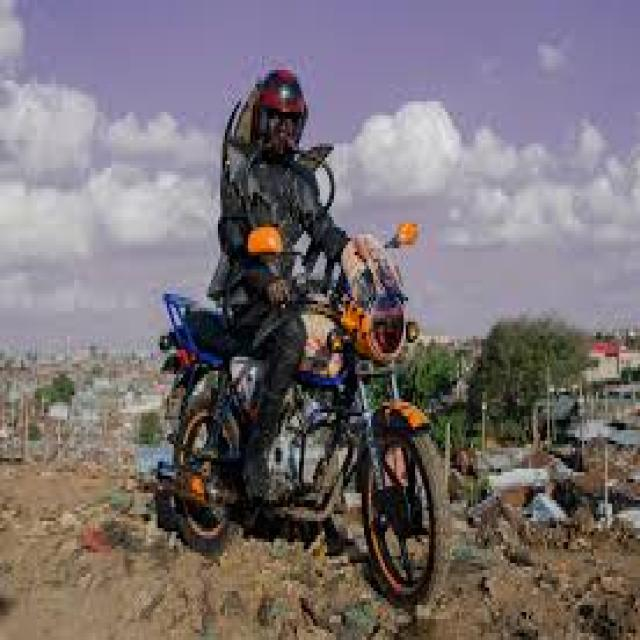bodaboda: (132, 200, 482, 628)
